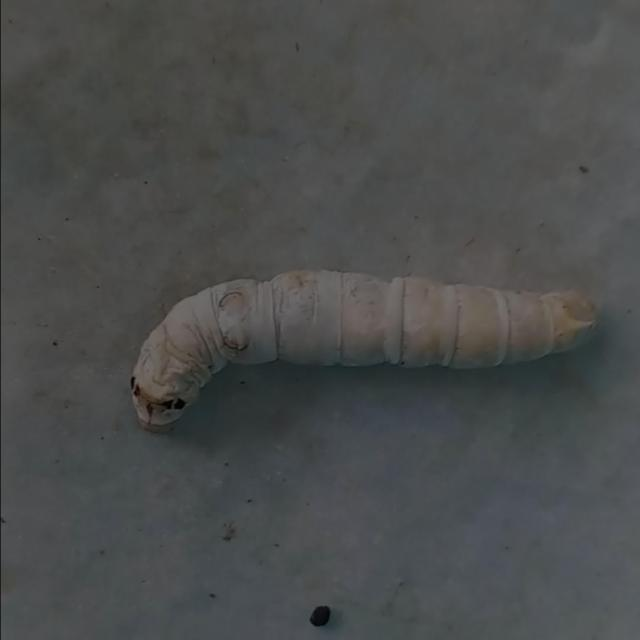Grasserie: (110, 254, 603, 442)
